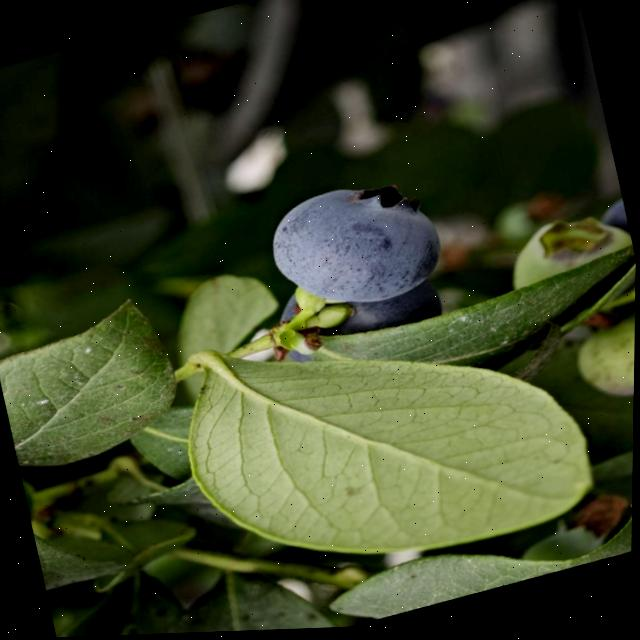RipeBlueBerry: (261, 168, 449, 326)
